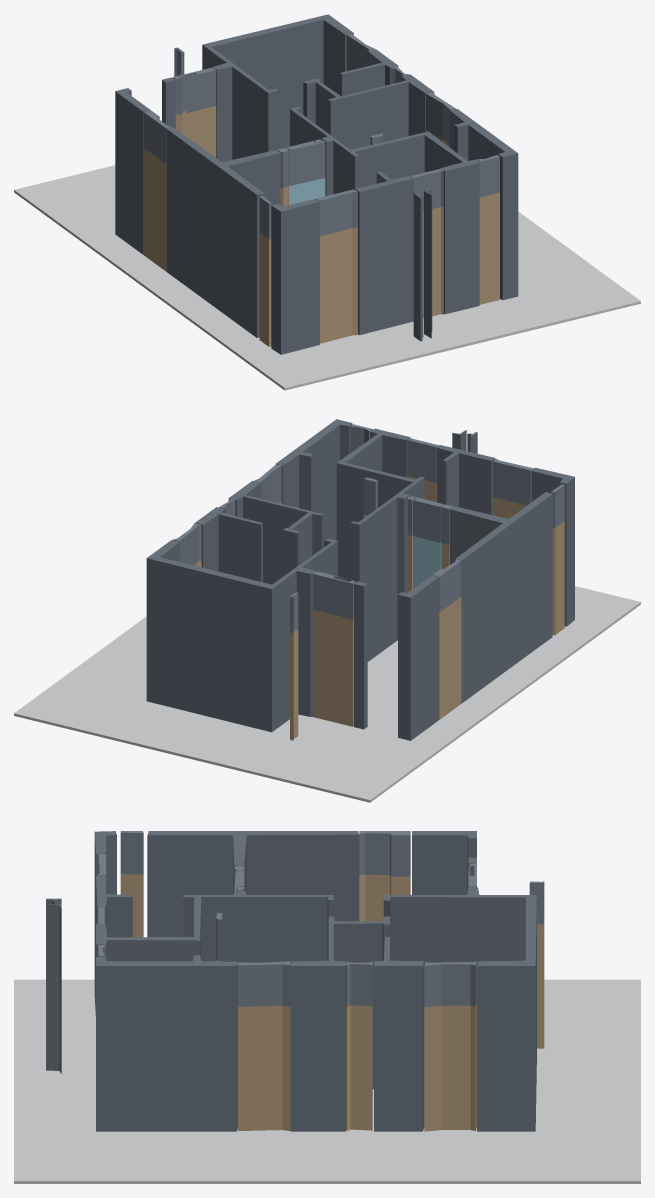
File: test_2bhk_run_v1.glb
The picture shows the model from 3 angles, top to bottom: view 1: azimuth 30°, elevation 25°; view 2: azimuth 150°, elevation 25°; view 3: azimuth 270°, elevation 25°; orthographic projection. The views are drawn at different scales.
Visible parts, largest first — view 1: floor_slab, wall_005, wall_002, wall_007, wall_008, wall_009, wall_004, wall_006, wall_001, door_010, door_003, door_009 (+16 smaller); view 2: floor_slab, wall_002, wall_005, wall_007, wall_001, wall_006, wall_004, door_001, wall_003, wall_008, door_003, wall_009 (+11 smaller); view 3: floor_slab, wall_006, wall_002, wall_005, wall_004, wall_007, wall_003, door_002, door_005, wall_001, door_004, wall_010 (+10 smaller).
Boxes of the visible parts, x1,y1,x2,y2 form: floor_slab: (14, 165, 640, 390); wall_005: (166, 127, 280, 337); wall_002: (202, 14, 353, 161); wall_007: (290, 107, 479, 314); wall_008: (355, 171, 413, 335); wall_009: (271, 199, 319, 354); wall_004: (303, 74, 434, 149); wall_006: (449, 109, 518, 300); wall_001: (115, 88, 150, 254); door_010: (320, 227, 357, 343); door_003: (143, 148, 166, 271); door_009: (479, 192, 499, 304); floor_slab: (14, 586, 640, 802); wall_002: (146, 538, 337, 732); wall_005: (449, 492, 552, 702); wall_007: (336, 428, 424, 661); wall_001: (398, 575, 438, 740); wall_006: (275, 419, 352, 547); wall_004: (228, 481, 323, 584); door_001: (313, 610, 353, 726); wall_003: (195, 507, 262, 582); wall_008: (437, 445, 495, 515); door_003: (438, 596, 461, 719); wall_009: (531, 467, 574, 626); floor_slab: (14, 979, 640, 1183); wall_006: (96, 955, 237, 1131); wall_002: (383, 886, 536, 1131); wall_005: (147, 831, 359, 937); wall_004: (290, 916, 389, 1131); wall_007: (96, 891, 333, 965); wall_003: (374, 937, 424, 1131); door_002: (424, 1003, 476, 1131); door_005: (238, 1005, 290, 1130); wall_001: (412, 831, 476, 894); door_004: (346, 1005, 372, 1130); wall_010: (46, 904, 61, 1073).
Size of the model in its own units: 7.29 by 2.85 by 9.6.
